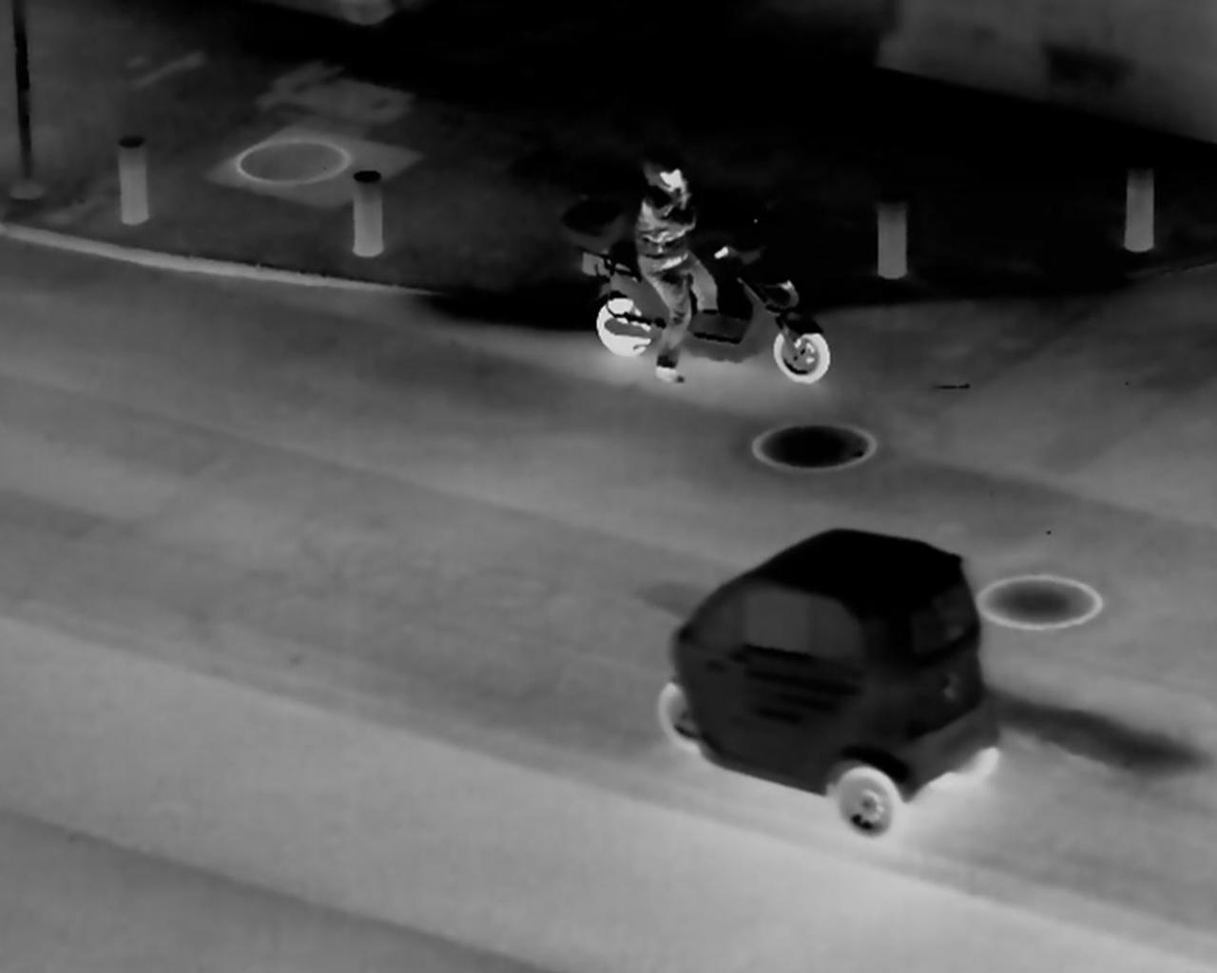person: (630, 148, 719, 384)
